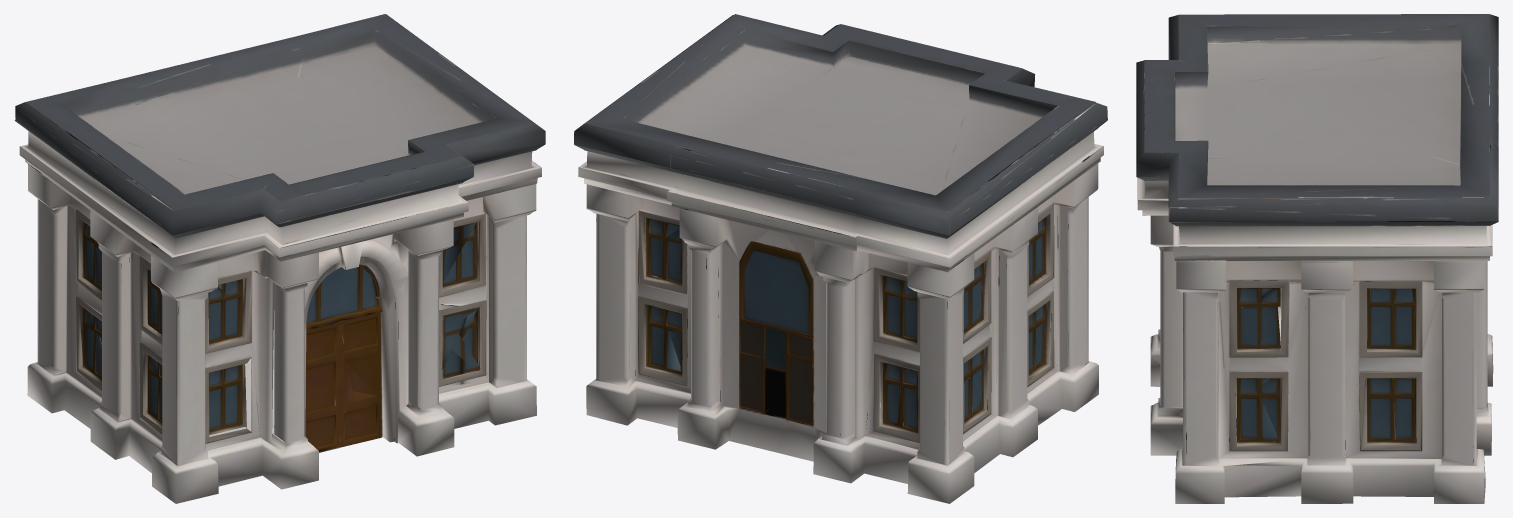
Rendered from 18-bank-building.glb.
The picture shows the model from 3 angles, left to right: view 1: azimuth 30°, elevation 25°; view 2: azimuth 150°, elevation 25°; view 3: azimuth 270°, elevation 25°; orthographic projection. The views are drawn at different scales.
Visible parts, largest first — view 1: geometry_0; view 2: geometry_0; view 3: geometry_0.
Boxes of the visible parts, bbox=[...] form: geometry_0: bbox=[14, 14, 545, 503]; geometry_0: bbox=[574, 14, 1107, 503]; geometry_0: bbox=[1136, 14, 1498, 503].
Bounding box in the file's own units: 0.9526 × 0.7124 × 0.7651.
Materials: 1 (1 with a texture image).
